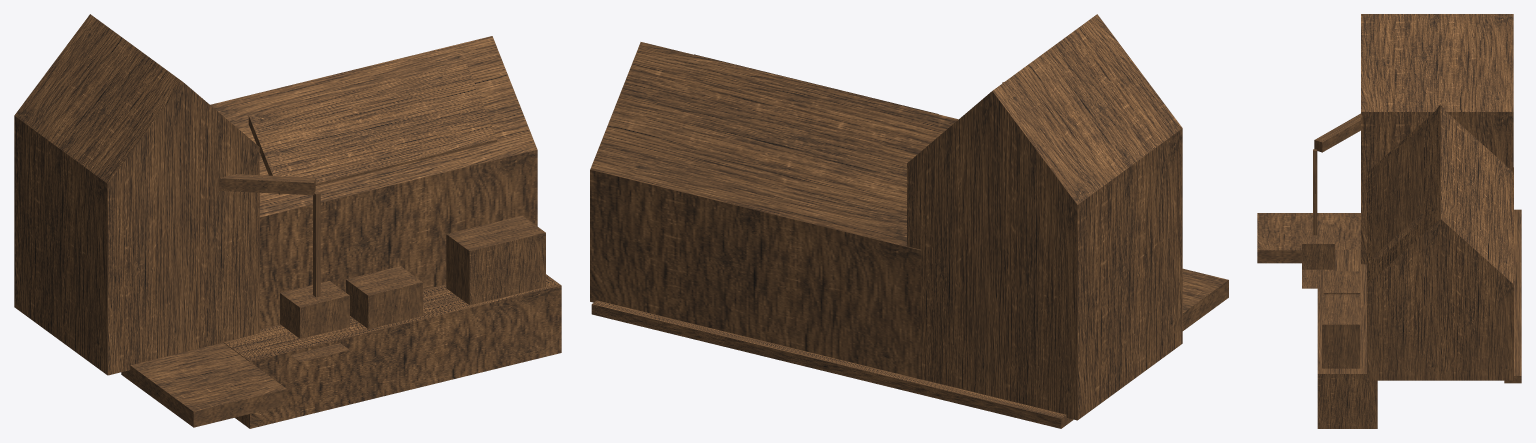
File: wool-selection.fbx
3 views of the same model, side by side, from view 1: azimuth 30°, elevation 25°; view 2: azimuth 150°, elevation 25°; view 3: azimuth 270°, elevation 25° (orthographic). The views are drawn at different scales.
Visible parts, largest first — view 1: PickVolume; view 2: PickVolume; view 3: PickVolume, ShoreFootprint.
Boxes of the visible parts, left/top/right/bottom form: PickVolume: left=14, top=14, right=561, bottom=428; PickVolume: left=590, top=14, right=1228, bottom=428; PickVolume: left=1257, top=14, right=1521, bottom=428; ShoreFootprint: left=1302, top=269, right=1317, bottom=288.
Bounding box in the file's own units: 0.0249 × 0.0185 × 0.0161.
